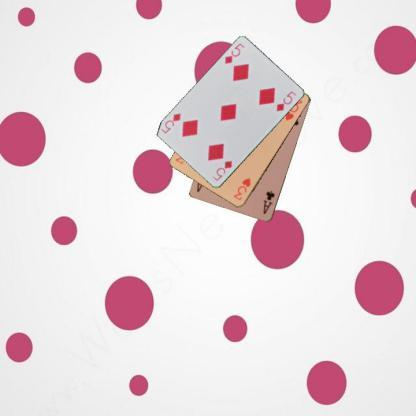3h: (231, 176, 252, 202)
5d: (222, 40, 245, 66), (210, 158, 233, 182)
Ac: (260, 188, 276, 216)
